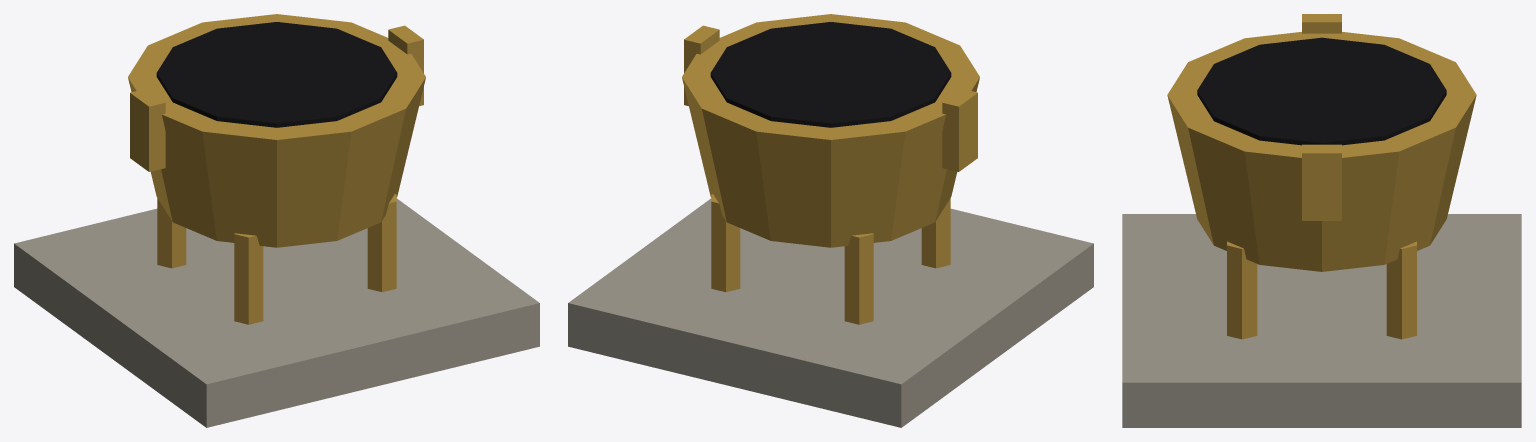
The model's file is incense-burner.glb.
3 views of the same model, side by side, from view 1: azimuth 30°, elevation 25°; view 2: azimuth 150°, elevation 25°; view 3: azimuth 270°, elevation 25° (orthographic). The views are drawn at different scales.
Parts seen in each view (by area): view 1: incense-burner; view 2: incense-burner; view 3: incense-burner.
Boxes of the visible parts, x1,y1,x2,y2 form: incense-burner: (14,14,539,427); incense-burner: (568,14,1093,427); incense-burner: (1122,14,1521,427).
Bounding box in the file's own units: 1.6 × 1.15 × 1.6.
